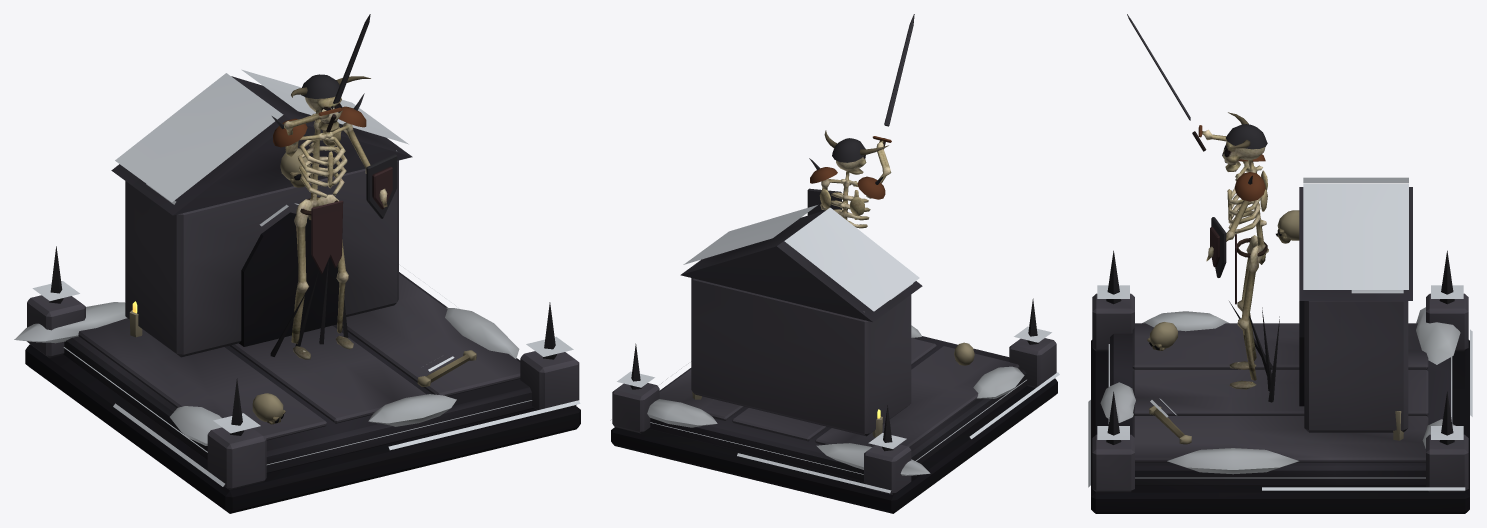
Rendered from ombres-1.glb.
3 views of the same model, side by side, from view 1: azimuth 30°, elevation 25°; view 2: azimuth 150°, elevation 25°; view 3: azimuth 270°, elevation 25° (orthographic). The views are drawn at different scales.
Visible parts, largest first — view 1: ombres_1_architecture, ombres_1_chevalier, ombres_1_chevalier_accessoires; view 2: ombres_1_architecture, ombres_1_chevalier_accessoires, ombres_1_chevalier; view 3: ombres_1_architecture, ombres_1_chevalier, ombres_1_chevalier_accessoires.
Boxes of the visible parts, box(x1,y1,x2,y2) form: ombres_1_architecture: box(14, 69, 580, 513); ombres_1_chevalier: box(284, 96, 387, 359); ombres_1_chevalier_accessoires: box(272, 14, 397, 274); ombres_1_architecture: box(610, 205, 1059, 513); ombres_1_chevalier_accessoires: box(807, 14, 914, 215); ombres_1_chevalier: box(819, 140, 891, 228); ombres_1_architecture: box(1088, 177, 1472, 513); ombres_1_chevalier: box(1202, 129, 1268, 389); ombres_1_chevalier_accessoires: box(1127, 14, 1267, 304).
Size of the model in its own units: 0.8655 by 0.9657 by 0.811.
4 materials, 1 textured.
